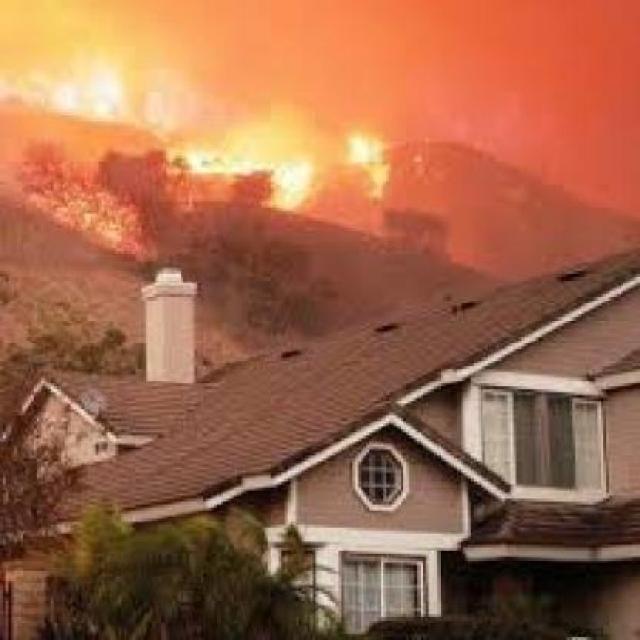Fire: (107, 78, 425, 238)
